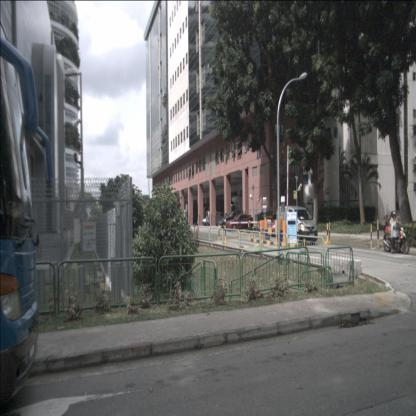movable_object-trafficcone: (195, 228, 199, 243), (190, 228, 193, 241)
vehicle-bus-rigid: (0, 17, 40, 411)
vehicle-car: (276, 206, 318, 246), (225, 214, 254, 232), (221, 210, 249, 226), (206, 210, 227, 225), (202, 214, 220, 226)
vehicle-motorcycle: (383, 210, 410, 255)
